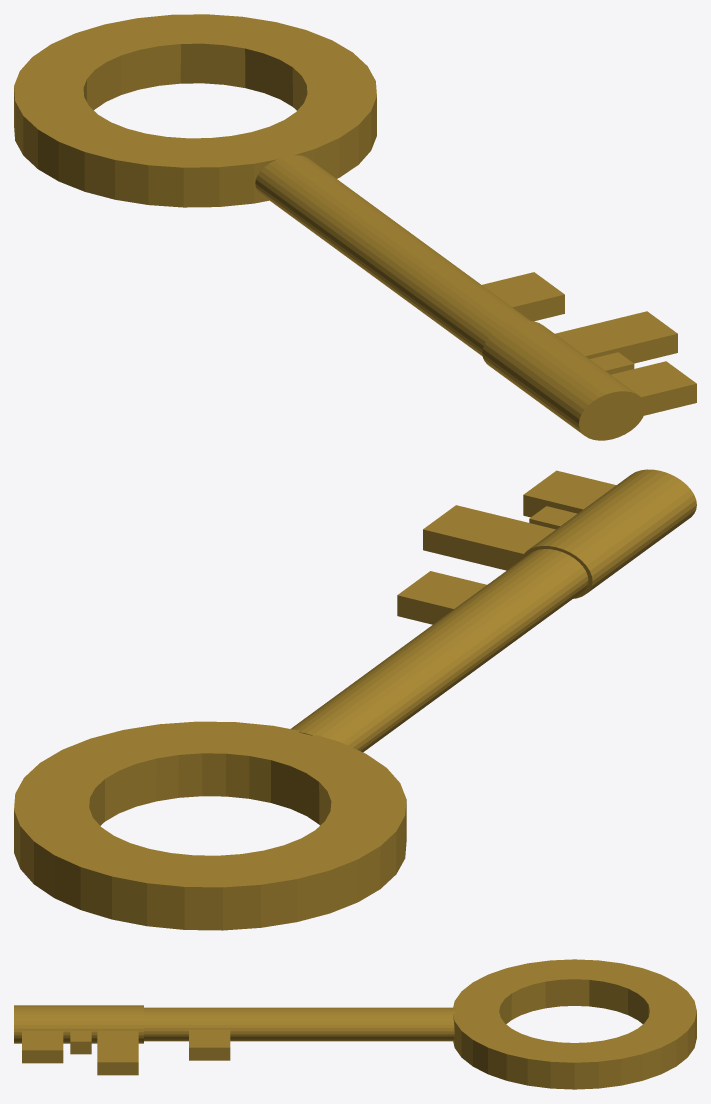
File: key model.fbx
3 views of the same model, one above another, from view 1: azimuth 30°, elevation 25°; view 2: azimuth 150°, elevation 25°; view 3: azimuth 270°, elevation 25° (orthographic). The views are drawn at different scales.
Visible parts, largest first — view 1: Cylinder.020, Cylinder.021, Cylinder.022, Cube.024, Cube.026, Cube.027; view 2: Cylinder.020, Cylinder.021, Cylinder.022, Cube.024, Cube.027, Cube.026; view 3: Cylinder.020, Cylinder.021, Cylinder.022, Cube.024, Cube.026, Cube.027, Cube.025.
Boxes of the visible parts, x1,y1,x2,y2 form: Cylinder.020: (14, 14, 376, 207); Cylinder.021: (255, 154, 530, 356); Cylinder.022: (482, 320, 645, 440); Cube.024: (555, 311, 677, 363); Cube.026: (611, 361, 696, 415); Cube.027: (482, 272, 564, 321); Cylinder.020: (14, 721, 406, 930); Cylinder.021: (291, 549, 588, 752); Cylinder.022: (521, 469, 696, 598); Cube.024: (423, 505, 555, 570); Cube.027: (397, 571, 486, 624); Cube.026: (523, 470, 616, 517); Cylinder.020: (453, 959, 696, 1089); Cylinder.021: (144, 1007, 455, 1041); Cylinder.022: (14, 1005, 143, 1043); Cube.024: (97, 1031, 138, 1075); Cube.026: (22, 1031, 63, 1063); Cube.027: (189, 1029, 230, 1060); Cube.025: (70, 1031, 91, 1054).
Bounding box in the file's own units: 102 × 14.42 × 284.
